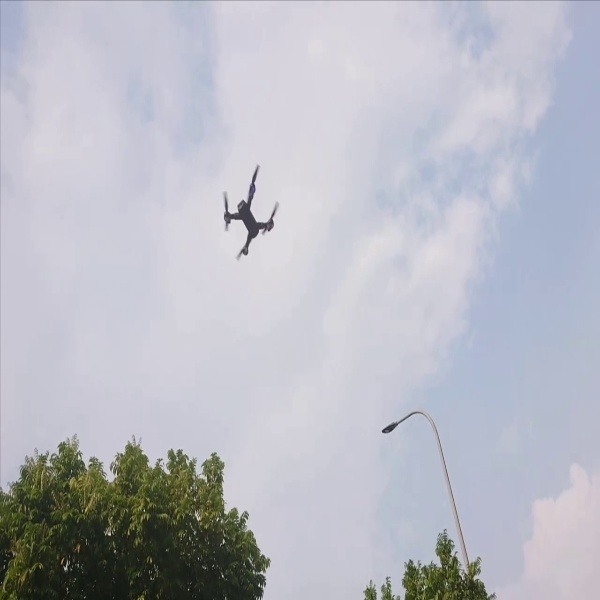drone: (217, 155, 284, 263)
